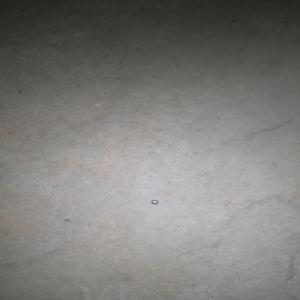Nut: (149, 199, 159, 205)
